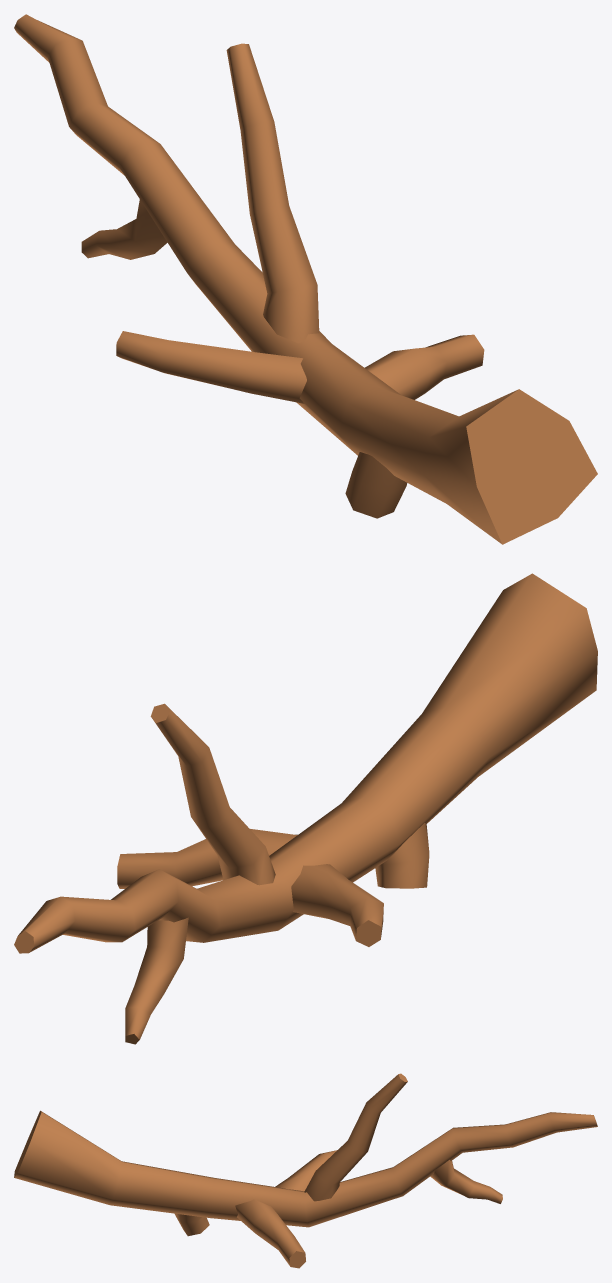
Rendered from itch_assetquest_pond_branch_2a.glb.
3 renders of one model, top to bottom at view 1: azimuth 30°, elevation 25°; view 2: azimuth 150°, elevation 25°; view 3: azimuth 270°, elevation 25°, orthographic. The views are drawn at different scales.
Parts seen in each view (by area): view 1: Branch_2a; view 2: Branch_2a; view 3: Branch_2a.
Part boxes in pixels (x1,y1,x2,y2): Branch_2a: [14, 14, 597, 544]; Branch_2a: [14, 573, 597, 1044]; Branch_2a: [14, 1073, 597, 1268].
Bounding box in the file's own units: 0.3274 × 0.3138 × 0.96.
